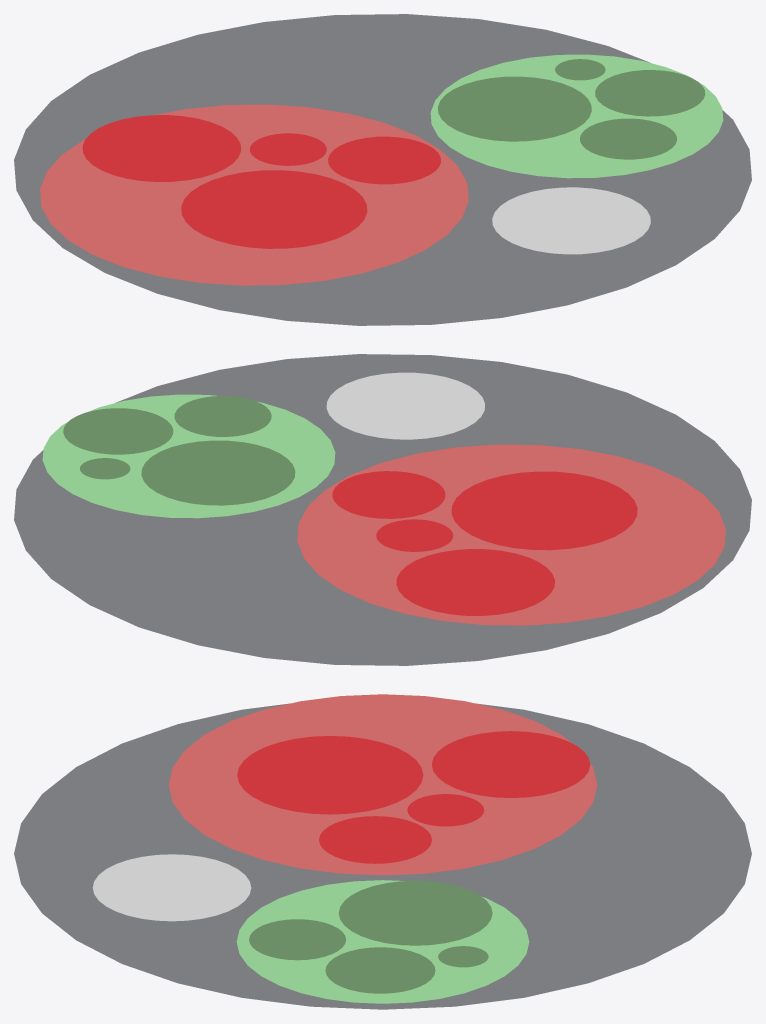
File: bubbles3.gltf
3 renders of one model, top to bottom at view 1: azimuth 30°, elevation 25°; view 2: azimuth 150°, elevation 25°; view 3: azimuth 270°, elevation 25°, orthographic.
Visible parts, largest first — view 1: grey, lightred, darkred, darkgreen, lightgreen, white; view 2: grey, lightred, darkred, darkgreen, lightgreen, white; view 3: grey, lightred, darkred, darkgreen, lightgreen, white.
Boxes of the visible parts, x1,y1,x2,y2 form: grey: [14, 14, 751, 325]; lightred: [40, 104, 468, 285]; darkred: [82, 115, 440, 248]; darkgreen: [438, 59, 705, 159]; lightgreen: [430, 54, 723, 178]; white: [492, 187, 650, 254]; grey: [14, 354, 751, 665]; lightred: [297, 444, 725, 625]; darkred: [332, 471, 637, 615]; darkgreen: [63, 396, 295, 505]; lightgreen: [42, 394, 335, 518]; white: [326, 372, 484, 439]; grey: [14, 703, 751, 1009]; lightred: [168, 694, 597, 875]; darkred: [237, 731, 590, 863]; darkgreen: [249, 880, 492, 993]; lightgreen: [236, 880, 529, 1003]; white: [92, 854, 251, 921].
Size of the model in its own units: 18.77 by 0.357 by 18.75.
